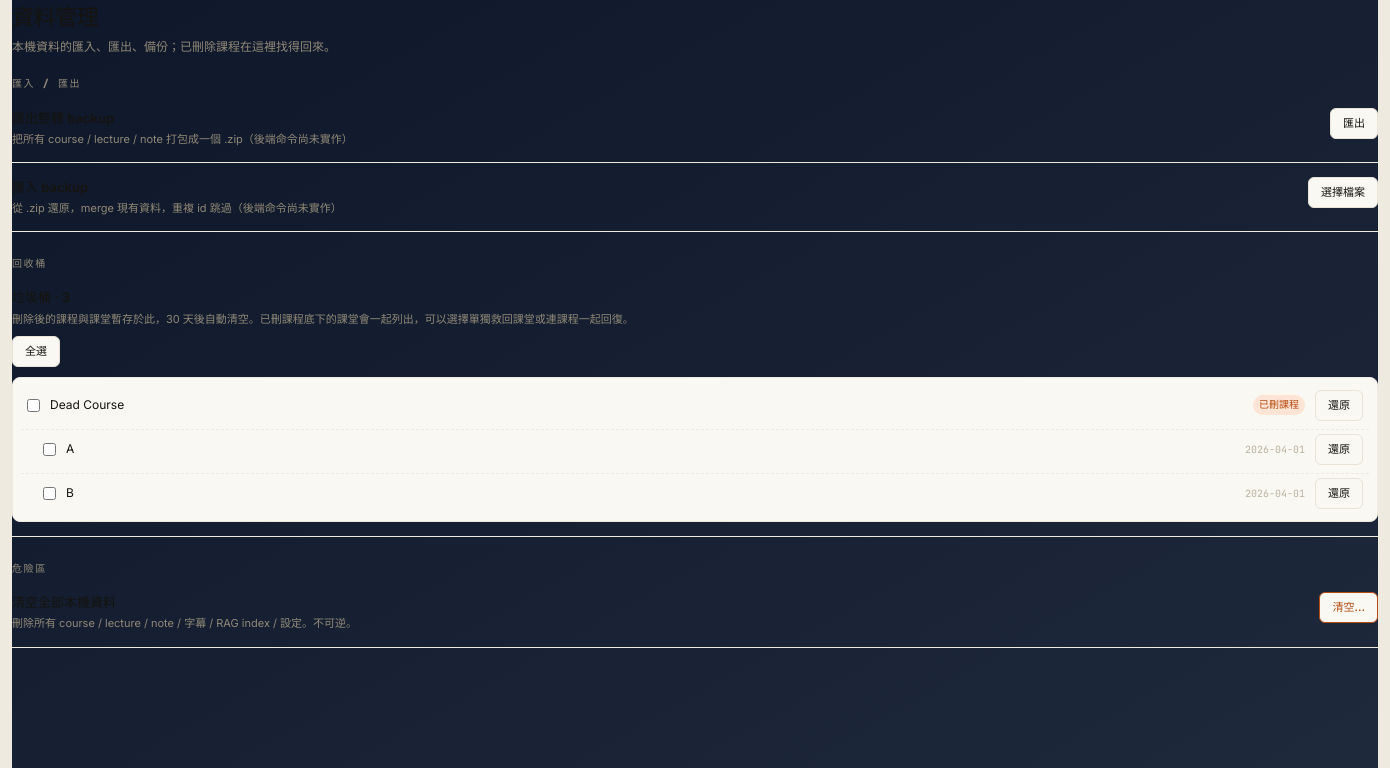
it: PData · S3f trash bin › 7. 全選 → checkbox 全打勾
What coordinates should you click on to do the following:
click the button "全選"
I would click on:
 (36, 351)
Its box is [12,336,60,367].
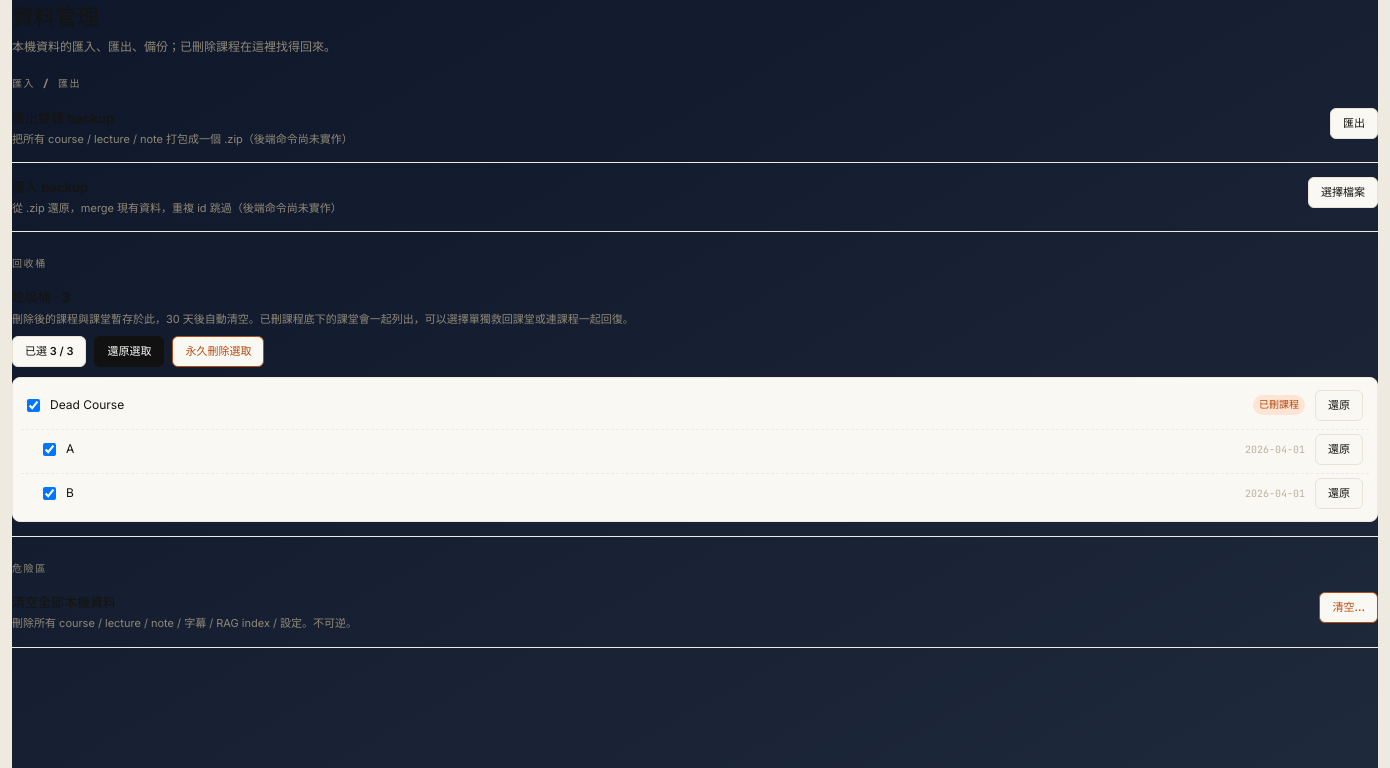
Now the checkbox named "選取課程 Dead Course" is checked, box [27,399,40,412]
Now the checkbox named "選取課堂 A" is checked, box [43,443,56,456]
Now the checkbox named "選取課堂 B" is checked, box [43,487,56,500]
